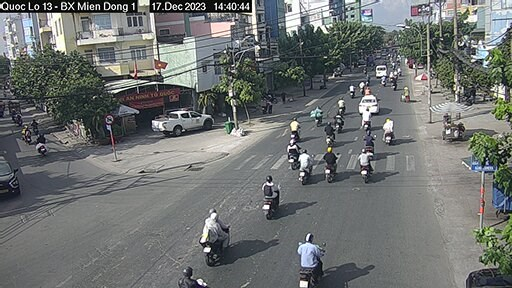car: (150, 110, 212, 134), (358, 94, 384, 117), (372, 60, 389, 76)
motorbike: (293, 239, 328, 285), (203, 211, 229, 262), (256, 177, 285, 216), (355, 151, 374, 180), (285, 143, 306, 169), (320, 149, 337, 177), (299, 155, 314, 180), (290, 119, 302, 139)
